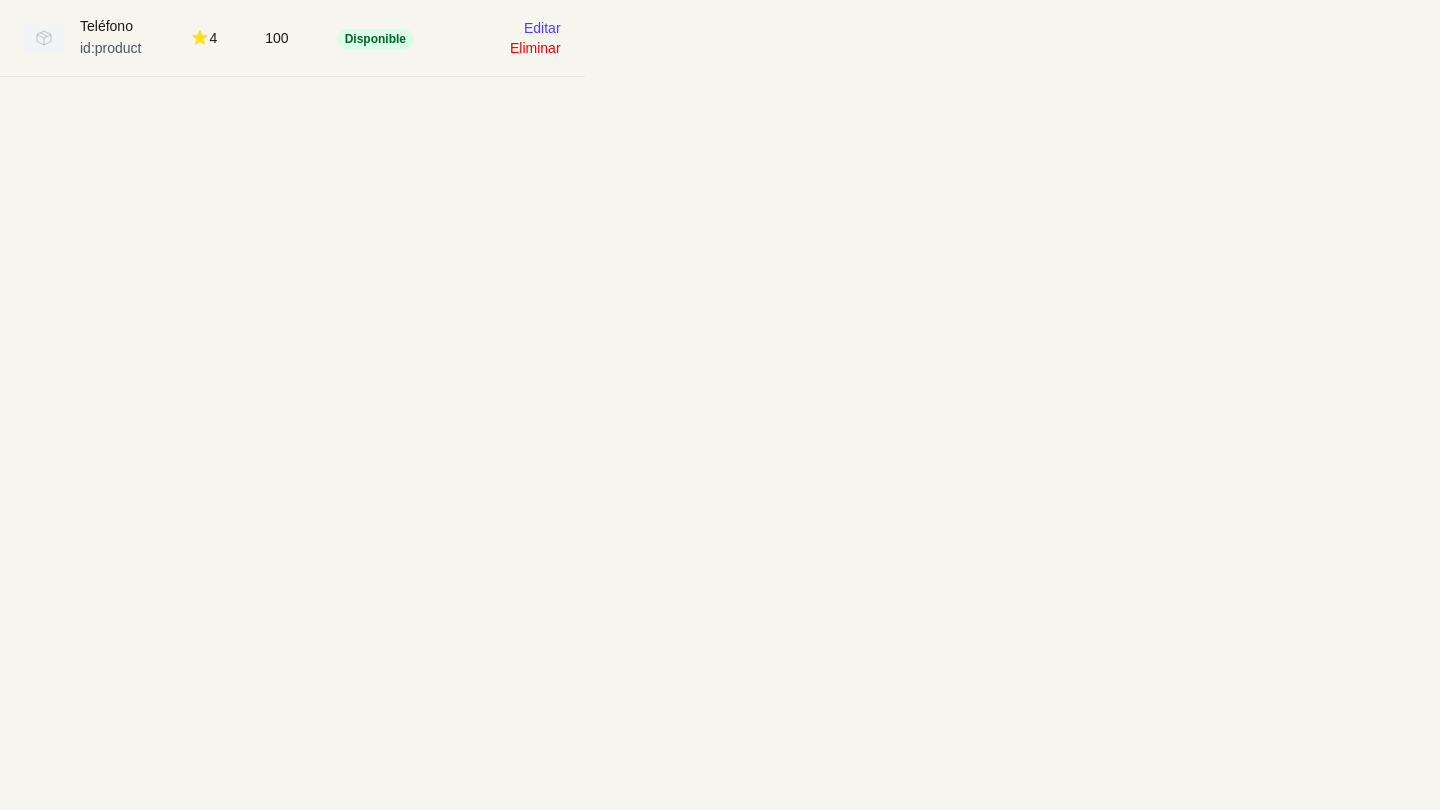
Test case: confirmación de eliminación › un rechazo conserva el diálogo y no actualiza el listado como si hubiera éxito
What coordinates should you click on to do the following:
click the button "Eliminar"
I would click on:
 (535, 48)
Its box is [510,38,561,58].
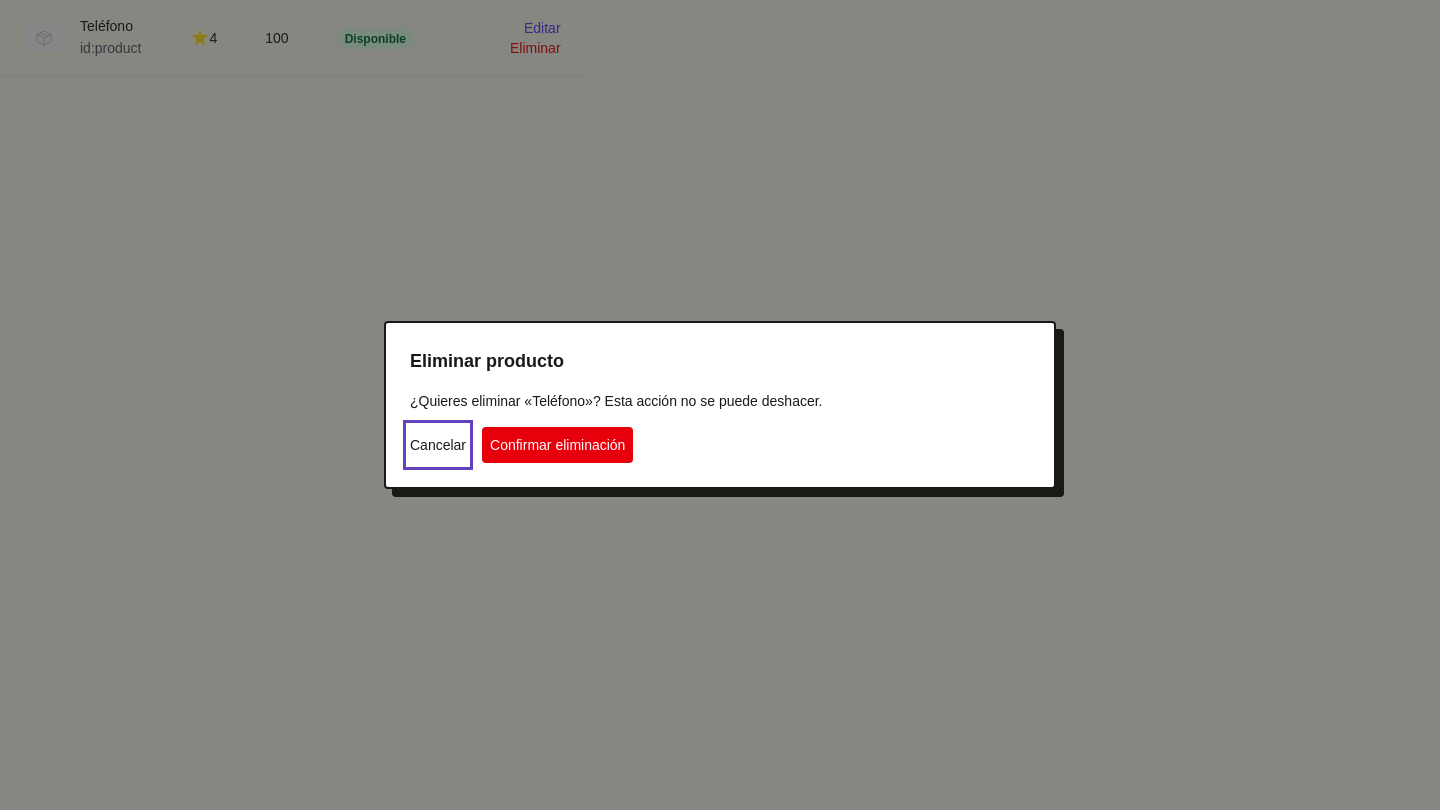
What coordinates should you click on to do the following:
click the button "Confirmar eliminación"
I would click on:
 (558, 445)
Its box is [482,427,633,463].
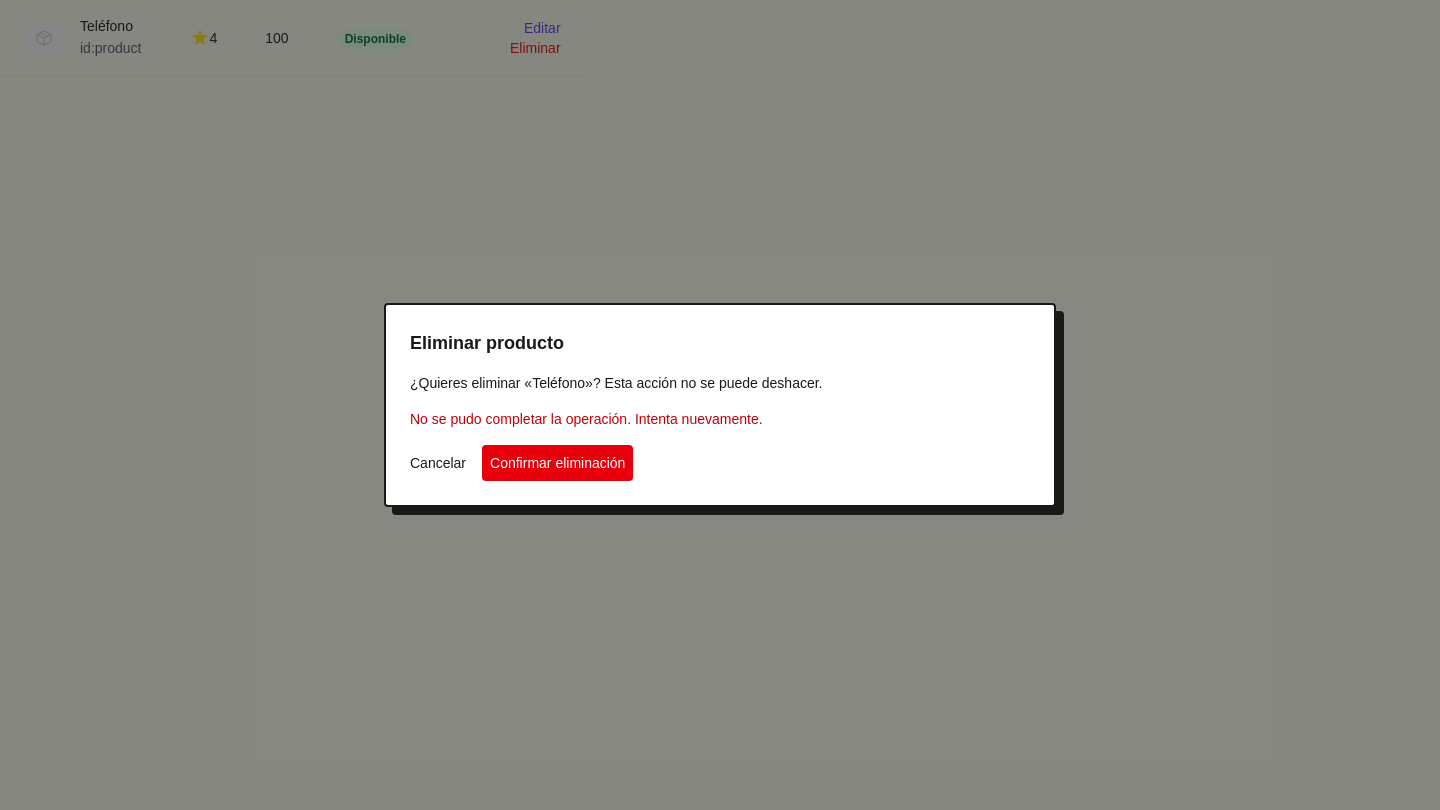
Result: the dialog "Eliminar producto" is shown at [384,303,1056,507]
Result: the message "No se pudo completar la operación. Intenta nuevamente." is shown at [410,411,763,427]
